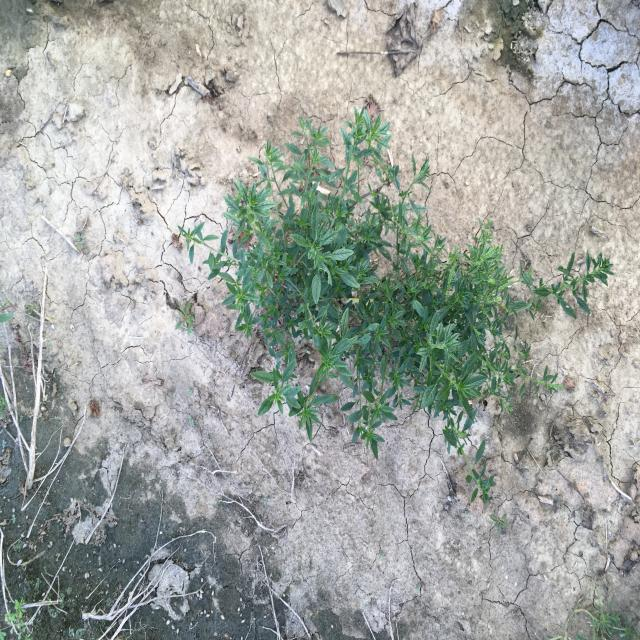Waterhemp: (176, 97, 616, 510)
